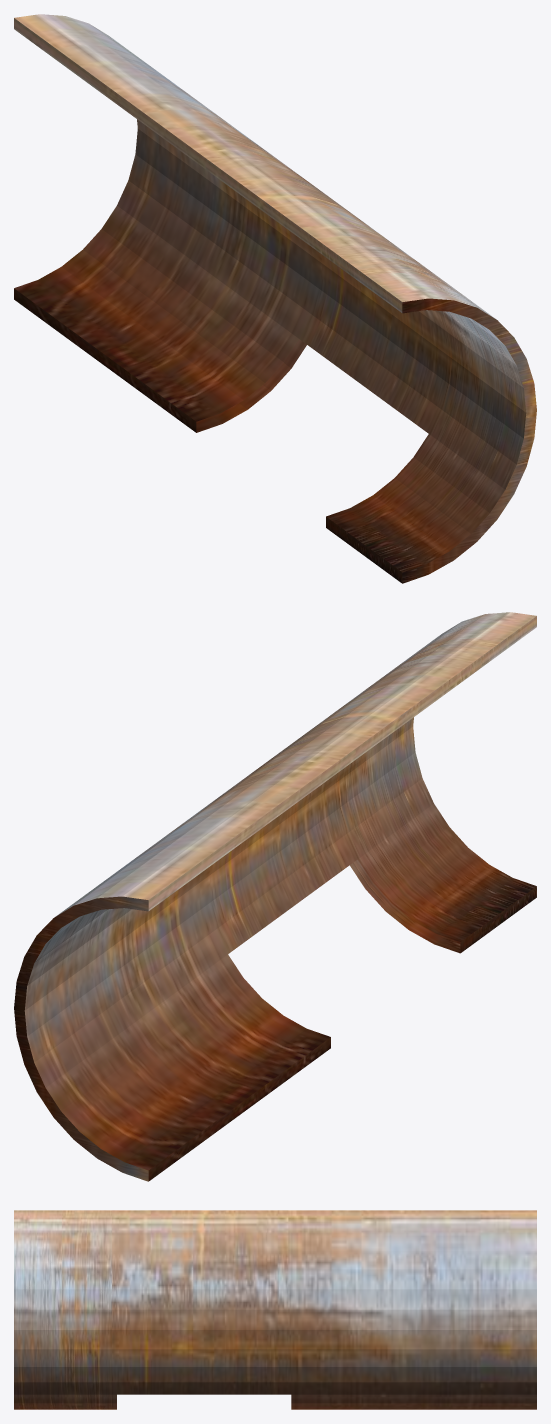
Rendered from PipeEnter.fbx.
The picture shows the model from 3 angles, top to bottom: view 1: azimuth 30°, elevation 25°; view 2: azimuth 150°, elevation 25°; view 3: azimuth 270°, elevation 25°; orthographic projection. The views are drawn at different scales.
Parts seen in each view (by area): view 1: Circle.000; view 2: Circle.000; view 3: Circle.000.
Part boxes in pixels (x1=…): Circle.000: x1=14, y1=14, x2=536, y2=583; Circle.000: x1=14, y1=612, x2=536, y2=1181; Circle.000: x1=14, y1=1210, x2=536, y2=1409.
Bounding box in the file's own units: 100 × 200 × 500.
